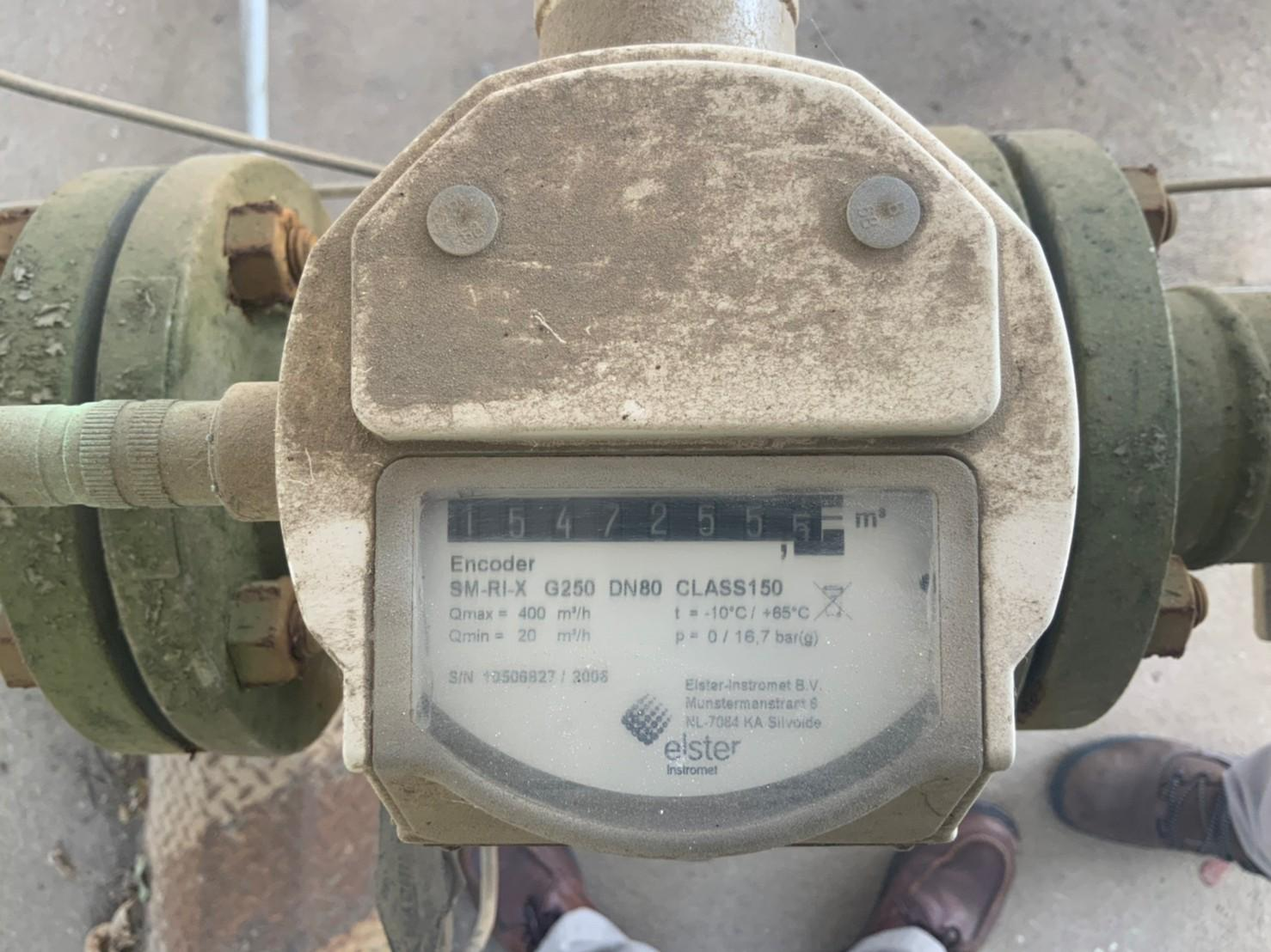analog_dial: (442, 483, 850, 558)
